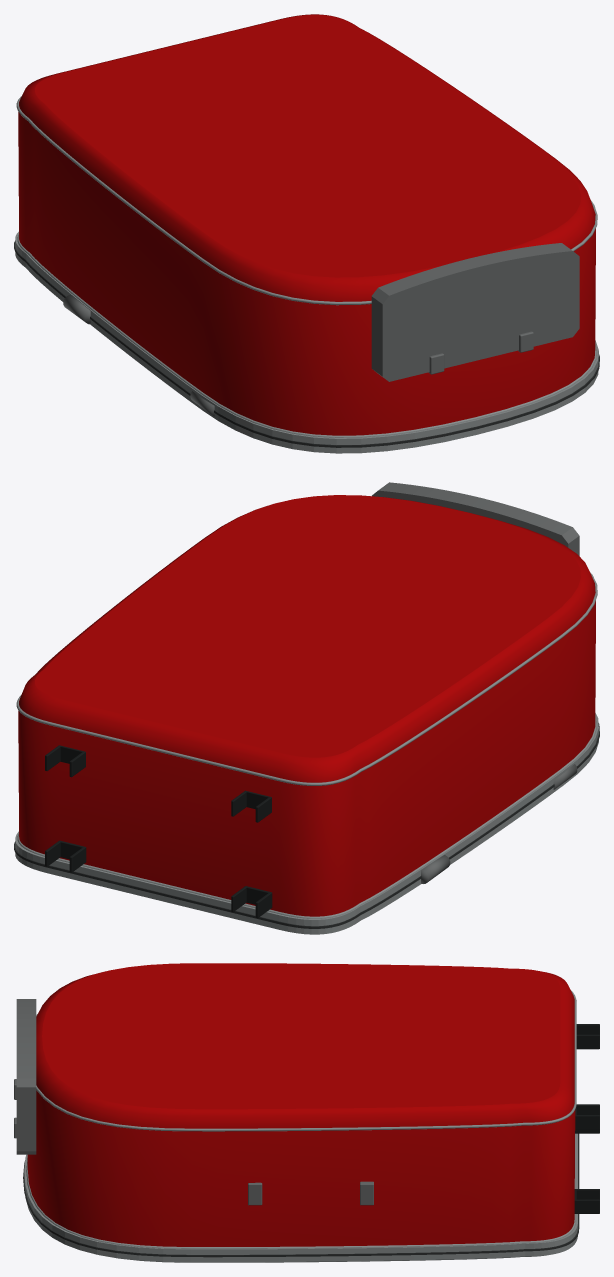
Rendered from fixed_root.obj.
The picture shows the model from 3 angles, top to bottom: view 1: azimuth 30°, elevation 25°; view 2: azimuth 150°, elevation 25°; view 3: azimuth 270°, elevation 25°; orthographic projection. The views are drawn at different scales.
Parts seen in each view (by area): view 1: rear_case_shell, telescopic_handle_base_plate, continuous_silver_zipper_band, narrow_zipper_center, zipper_rear_welting, rear_shell_thin_piping; view 2: rear_case_shell, continuous_silver_zipper_band, telescopic_handle_base_plate, rear_shell_thin_piping, narrow_zipper_center, zipper_rear_welting; view 3: rear_case_shell, continuous_silver_zipper_band, telescopic_handle_base_plate, rear_shell_thin_piping, narrow_zipper_center, zipper_rear_welting, zipper_front_welting.
Part boxes in pixels (bbox=[...]): rear_case_shell: bbox=[18, 14, 595, 435]; telescopic_handle_base_plate: bbox=[371, 243, 579, 381]; continuous_silver_zipper_band: bbox=[15, 231, 598, 453]; narrow_zipper_center: bbox=[14, 240, 599, 447]; zipper_rear_welting: bbox=[17, 235, 596, 437]; rear_shell_thin_piping: bbox=[16, 96, 597, 305]; rear_case_shell: bbox=[18, 495, 595, 916]; continuous_silver_zipper_band: bbox=[15, 713, 598, 934]; telescopic_handle_base_plate: bbox=[372, 482, 579, 555]; rear_shell_thin_piping: bbox=[16, 572, 597, 785]; narrow_zipper_center: bbox=[14, 723, 599, 928]; zipper_rear_welting: bbox=[17, 717, 596, 918]; rear_case_shell: bbox=[27, 963, 575, 1246]; continuous_silver_zipper_band: bbox=[24, 1133, 577, 1262]; telescopic_handle_base_plate: bbox=[16, 999, 36, 1154]; rear_shell_thin_piping: bbox=[36, 990, 576, 1131]; narrow_zipper_center: bbox=[23, 1133, 579, 1257]; zipper_rear_welting: bbox=[26, 1133, 575, 1248]; zipper_front_welting: bbox=[106, 1255, 546, 1262].
Bounding box in the file's own units: 0.4683 × 0.2125 × 0.7374.
